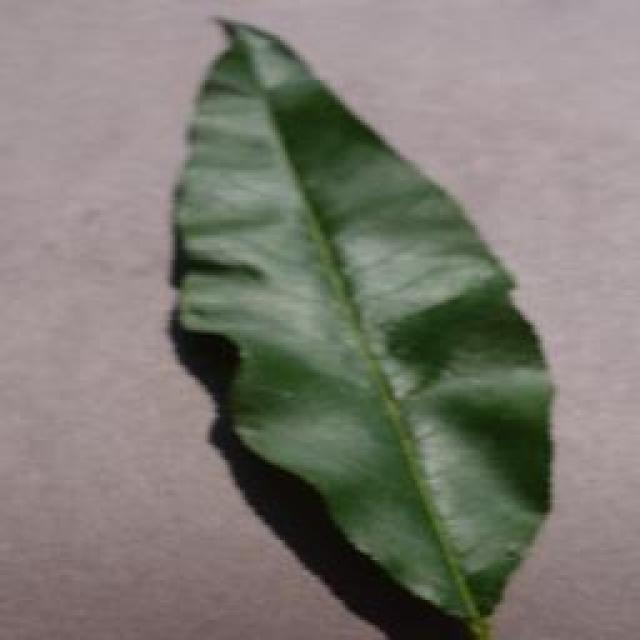Pea_healthy: (162, 71, 554, 530)
